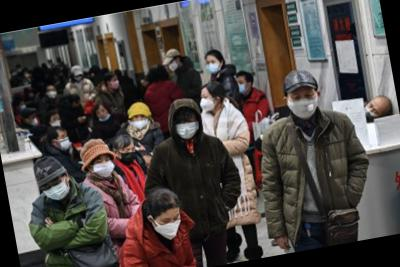mask_weared_incorrect: (95, 108, 112, 123)
with_mask: (286, 89, 323, 122), (152, 211, 186, 243), (40, 177, 72, 203), (174, 115, 204, 142), (90, 155, 117, 180), (117, 144, 139, 167), (363, 101, 383, 124), (198, 92, 216, 114), (130, 114, 149, 132), (56, 133, 73, 153), (205, 58, 222, 76), (236, 78, 249, 97), (167, 59, 180, 73), (50, 116, 62, 129), (46, 87, 58, 100), (110, 77, 121, 91), (72, 101, 83, 113), (28, 115, 39, 127), (19, 102, 28, 111), (74, 74, 83, 83)
